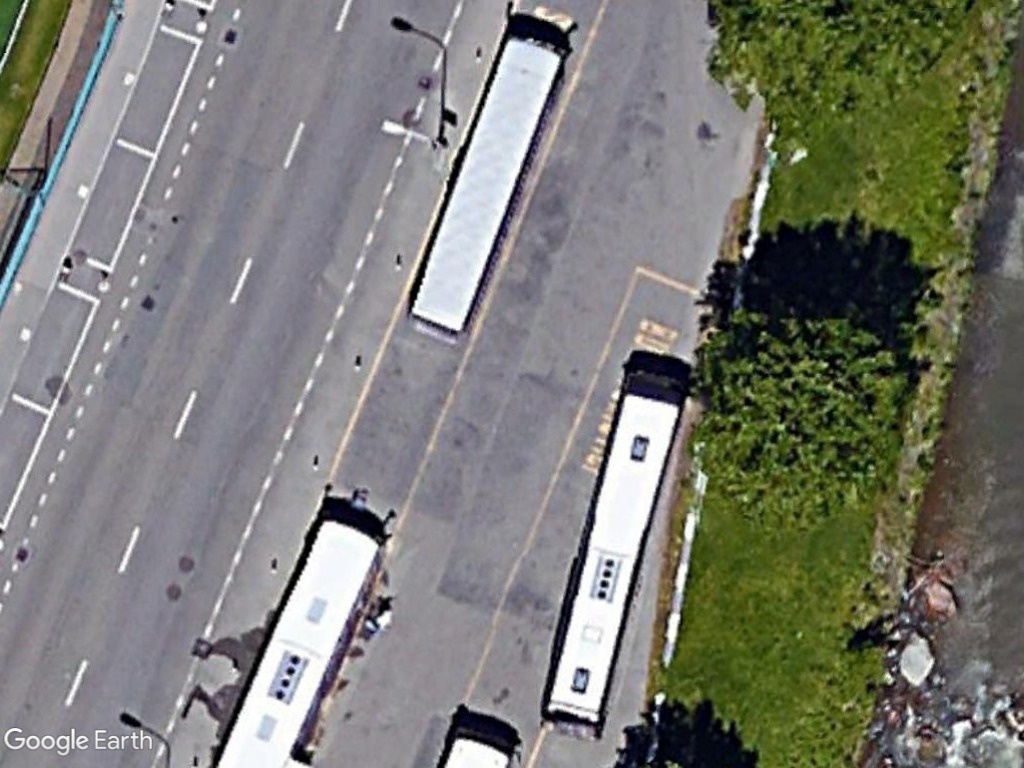bus: (404, 21, 573, 350), (540, 370, 685, 733)
